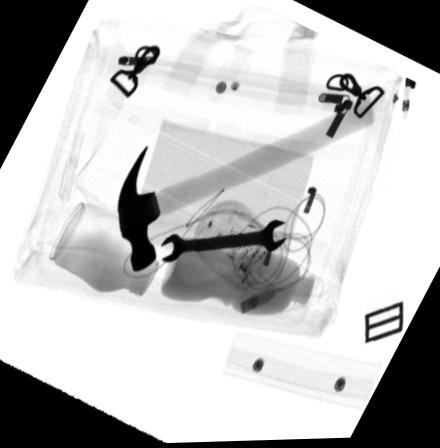Hammer: (118, 97, 375, 274)
Wrench: (162, 222, 290, 264)
